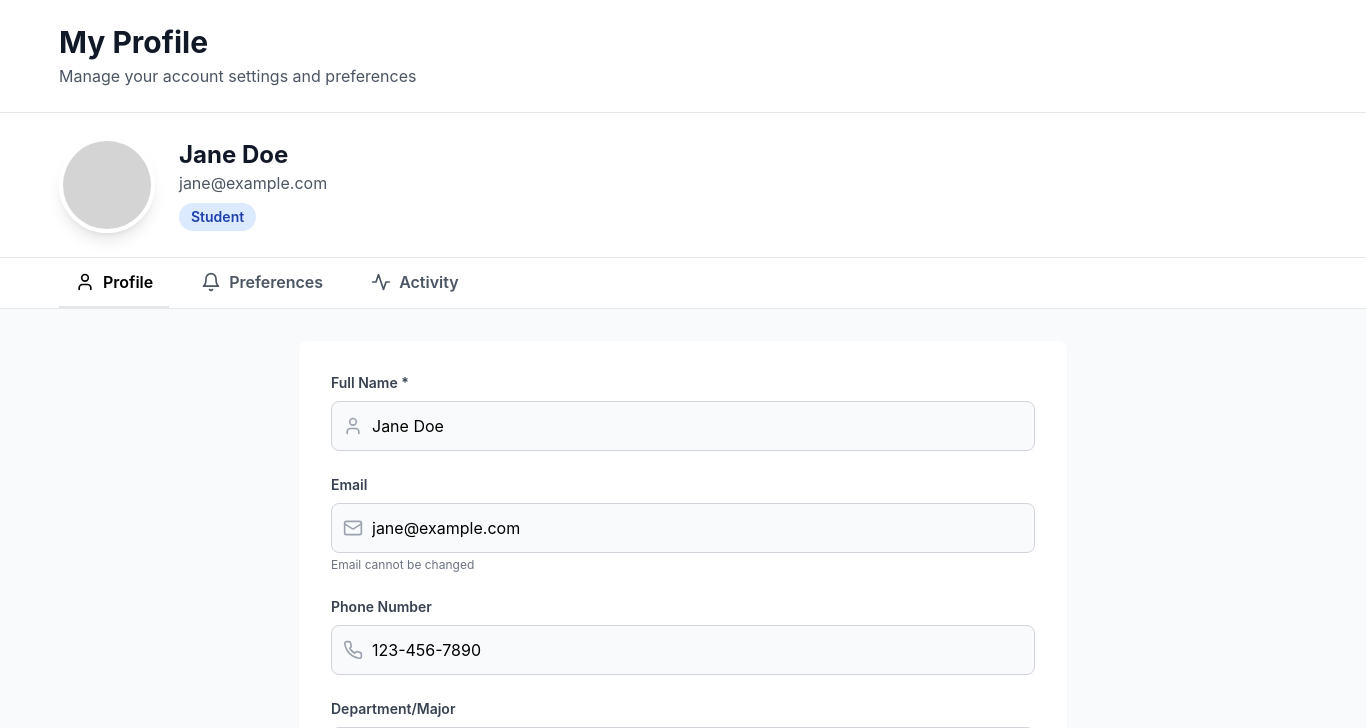
Test: ProfilePage › switches to stats tab and renders metrics
Expected: the heading "My Profile" is shown, [59,24,208,60]
Click the button "Activity": (415, 283) [355,258,475,308]
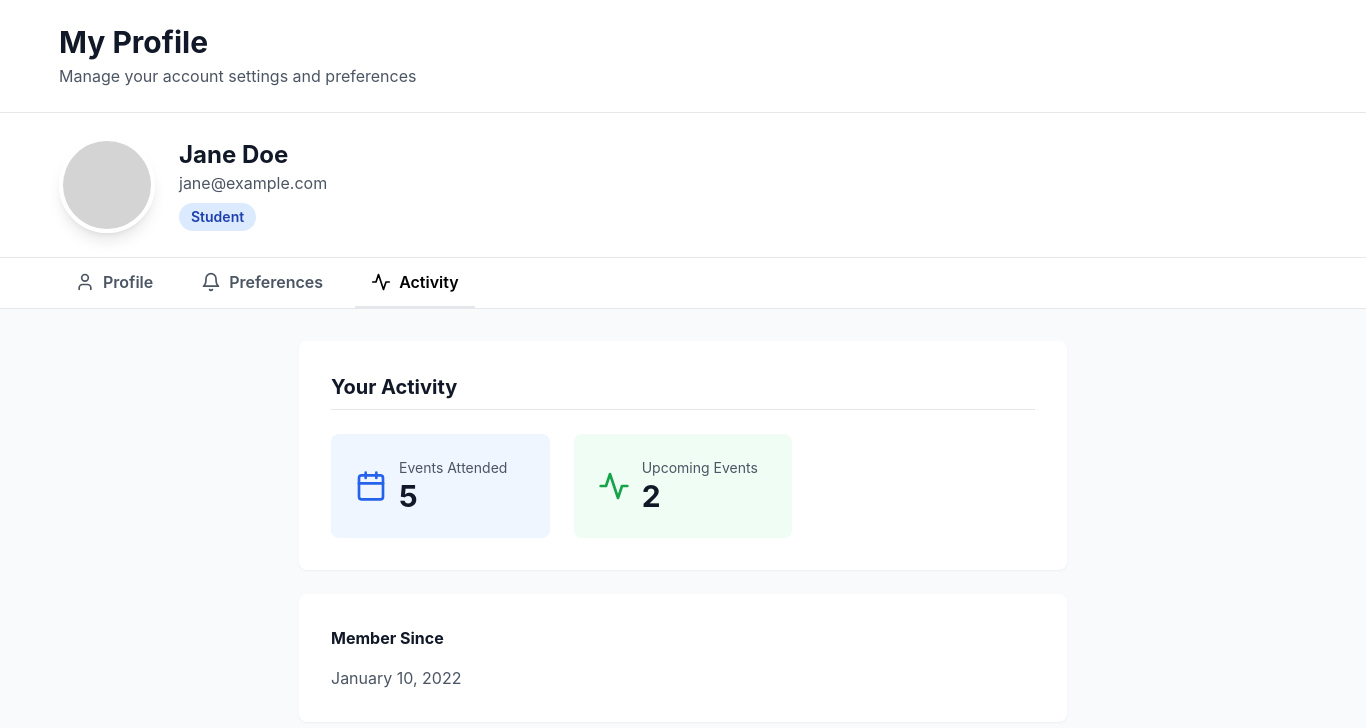
Result: the text "Events Attended" is shown at [399,458,507,478]
Result: the text "5" is shown at [399,478,418,514]
Result: the text "Upcoming Events" is shown at [642,458,758,478]
